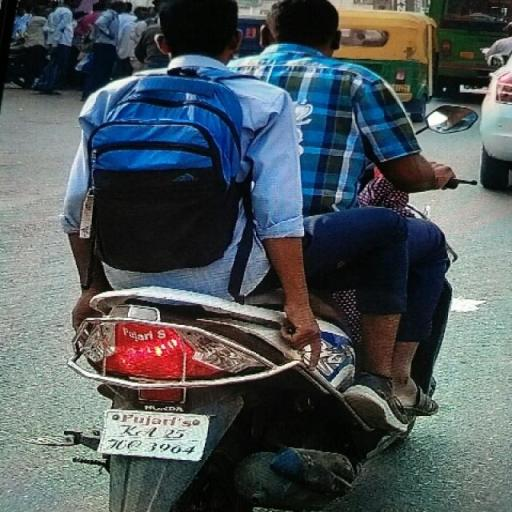bike: (54, 0, 465, 512)
numberplate: (99, 404, 211, 464)
withouthelmet: (158, 0, 238, 59), (269, 0, 339, 47)
